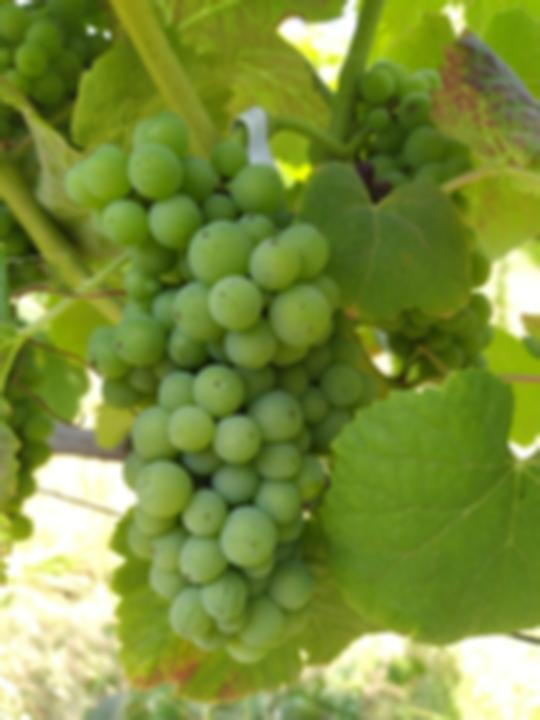grape: (67, 110, 366, 672)
